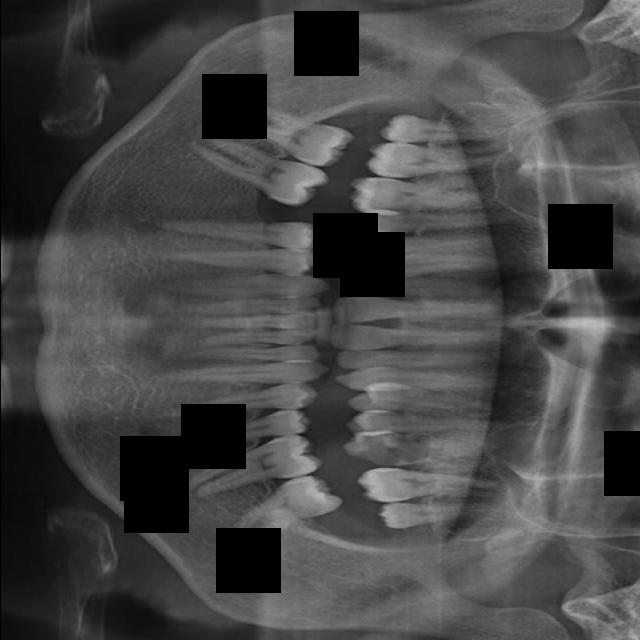3M ESPE Implant: (377, 113, 519, 149)
AGS Medikal Implant: (175, 428, 324, 501)
Amalgam filling: (364, 142, 517, 178)
Anthogyr Implant: (135, 406, 313, 460)
Bicon Implant: (148, 381, 320, 421)
BioHorizons Implant: (151, 359, 331, 387)
BioLife Implant: (188, 344, 321, 362)
Biomet 3i Implant: (201, 330, 317, 346)
Blue Sky Bio Implant: (189, 312, 318, 333)
Camlog Implant: (185, 296, 322, 317)
Caries: (334, 345, 498, 371)
Composite filling: (173, 271, 331, 300)
Cowellmedi Implant: (170, 238, 320, 277)
Crown: (145, 199, 322, 253)
DENTSPLY Implant: (349, 175, 490, 215)
Dentis Implant: (180, 127, 332, 215)
Dentium Implant: (224, 98, 354, 173)
Euroteknika Implant: (351, 209, 524, 236)
Filling: (348, 233, 501, 261)
Frontier Implant: (344, 251, 500, 281)
Hiossen Implant: (333, 366, 520, 392)
Implant: (330, 287, 501, 324)
Implant Direct: (338, 275, 494, 299)
Keystone Dental Implant: (327, 324, 506, 354)
MIS Implant: (344, 382, 505, 419)
Mandible: (345, 408, 498, 434)
Maxilla: (342, 433, 504, 466)
Megagen Implant: (445, 484, 464, 489)
Neodent Implant: (375, 494, 504, 531)
Neoss Implant: (219, 464, 346, 549)
